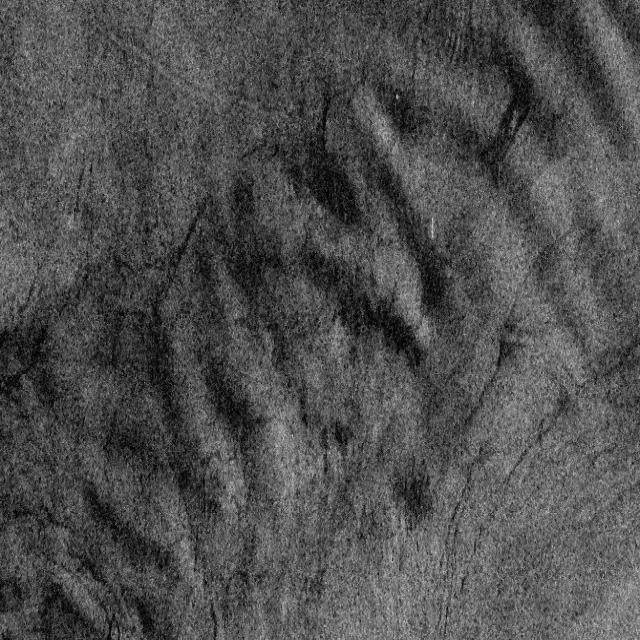look-alike: (456, 231, 572, 420), (24, 108, 101, 328), (511, 359, 628, 487), (432, 452, 489, 633), (146, 185, 212, 306)
